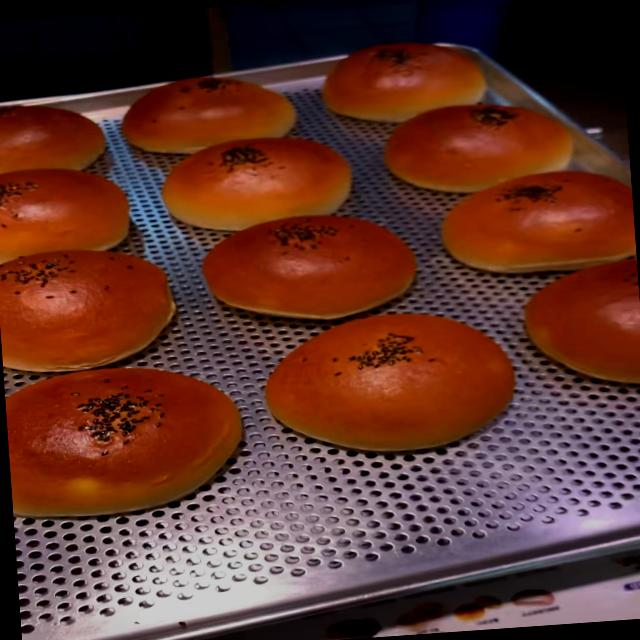bread: (259, 300, 522, 458), (3, 358, 245, 522), (0, 240, 175, 374)
